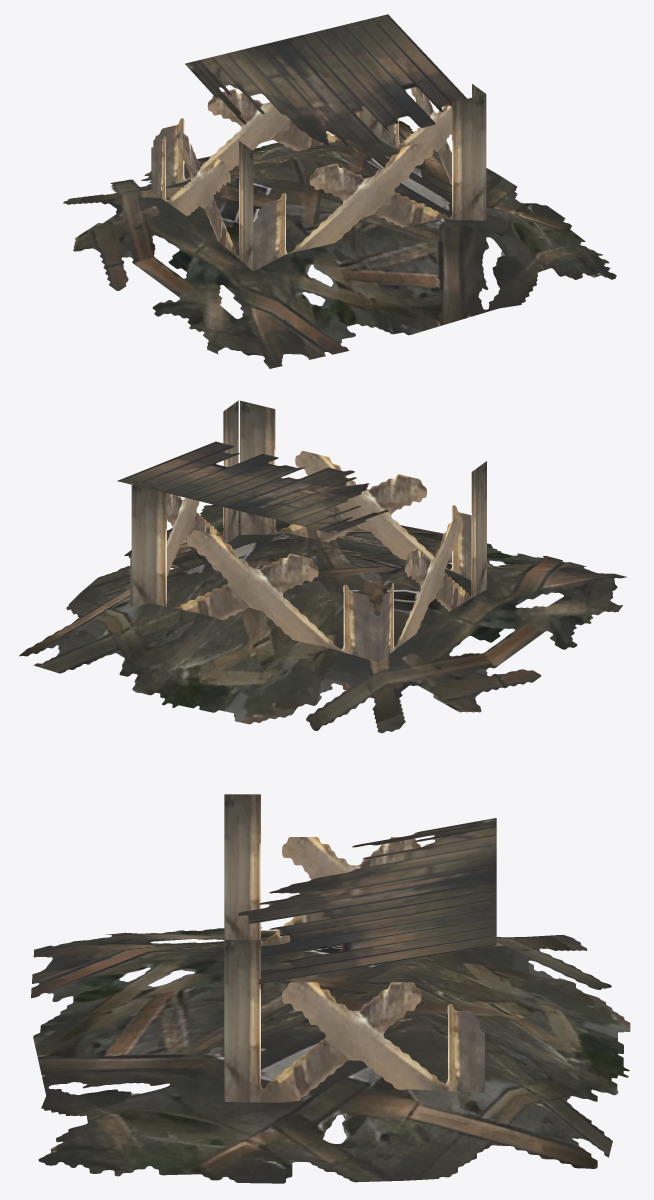
The model's file is civstoragec_dam_hdtex.glb.
The picture shows the model from 3 angles, top to bottom: view 1: azimuth 30°, elevation 25°; view 2: azimuth 150°, elevation 25°; view 3: azimuth 270°, elevation 25°; orthographic projection. The views are drawn at different scales.
Parts seen in each view (by area): view 1: Object02; view 2: Object02; view 3: Object02.
Boxes of the visible parts, x1,y1,x2,y2 form: Object02: [63, 14, 616, 368]; Object02: [19, 400, 627, 733]; Object02: [31, 794, 630, 1183].
Bounding box in the file's own units: 7.48 × 2.57 × 7.6.
Materials: 1 (1 with a texture image).
